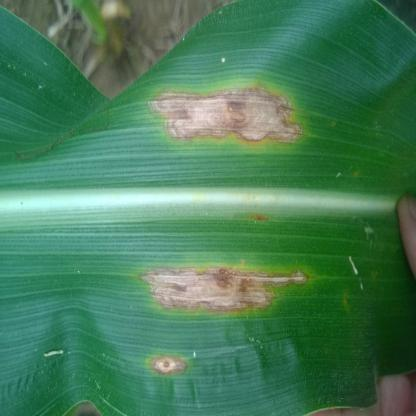corn leaf blight: (1, 8, 376, 415)
